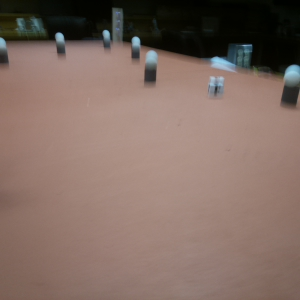blockF: (208, 76, 224, 97)
corner: (112, 8, 123, 43)
obstacle: (281, 63, 300, 111), (143, 51, 158, 85), (53, 32, 67, 55), (130, 37, 142, 60), (101, 27, 111, 50), (1, 37, 8, 64)
